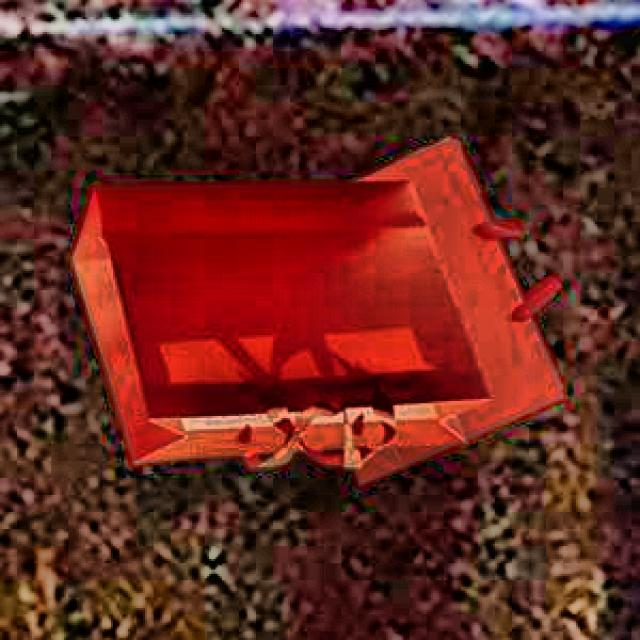Paper-bag: (53, 157, 495, 464), (284, 138, 588, 508)
